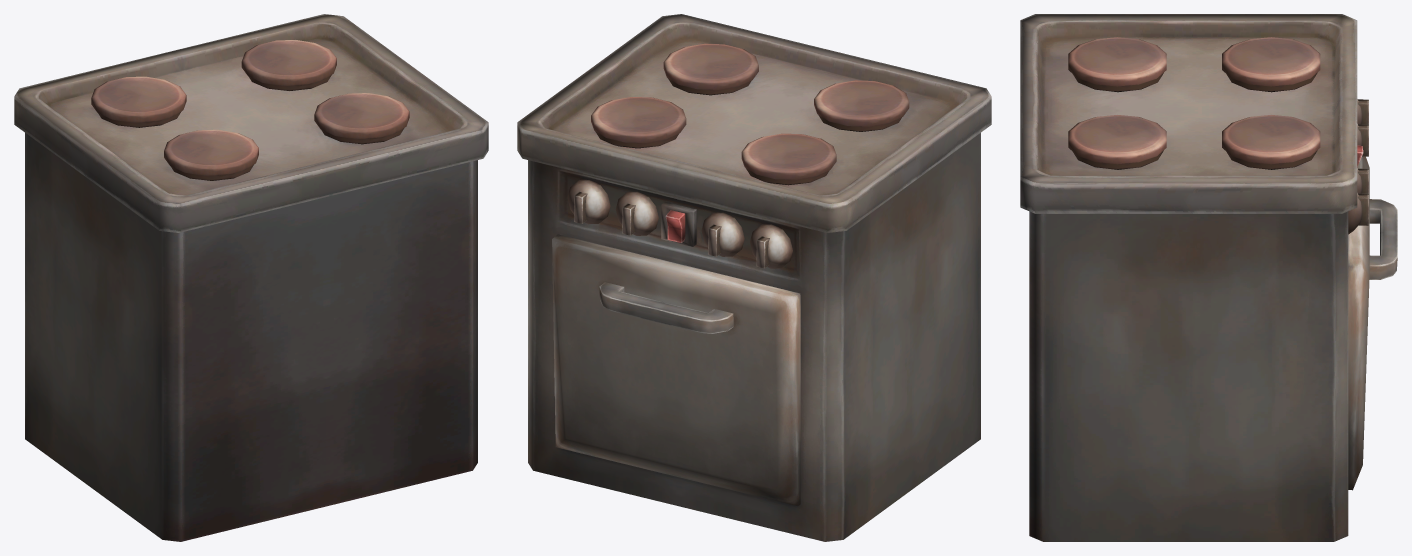
Rendered from SM_stove_00.gltf.
The picture shows the model from 3 angles, left to right: view 1: azimuth 30°, elevation 25°; view 2: azimuth 150°, elevation 25°; view 3: azimuth 270°, elevation 25°; orthographic projection. The views are drawn at different scales.
Parts seen in each view (by area): view 1: SM_stove_00; view 2: SM_stove_00; view 3: SM_stove_00.
Boxes of the visible parts, left/top/right/bottom form: SM_stove_00: left=14, top=14, right=488, bottom=541; SM_stove_00: left=517, top=14, right=991, bottom=541; SM_stove_00: left=1020, top=14, right=1397, bottom=541.
Bounding box in the file's own units: 0.6275 × 0.6296 × 0.5887.
Materials: 1 (1 with a texture image).
